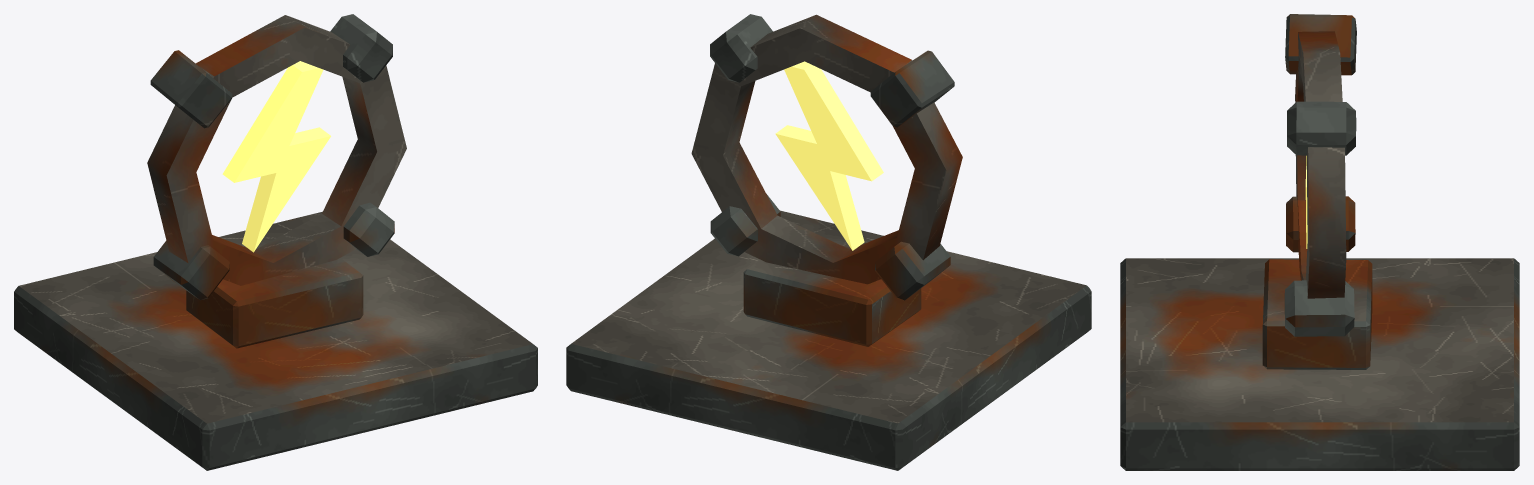
The model's file is R4X_RechargePulse_LOD1.glb.
3 renders of one model, left to right at view 1: azimuth 30°, elevation 25°; view 2: azimuth 150°, elevation 25°; view 3: azimuth 270°, elevation 25°, orthographic. The views are drawn at different scales.
Parts seen in each view (by area): view 1: R4X_RechargePulse_LOD1; view 2: R4X_RechargePulse_LOD1; view 3: R4X_RechargePulse_LOD1.
Part boxes in pixels (x1=…): R4X_RechargePulse_LOD1: x1=14, y1=14, x2=537, y2=470; R4X_RechargePulse_LOD1: x1=566, y1=14, x2=1091, y2=470; R4X_RechargePulse_LOD1: x1=1120, y1=14, x2=1519, y2=470.
Size of the model in its own units: 0.52 by 0.4969 by 0.52.
3 materials, 2 textured.
